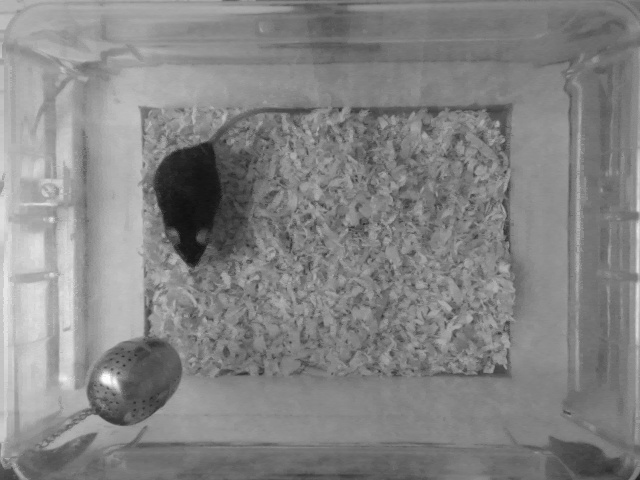mice: (148, 108, 309, 268)
